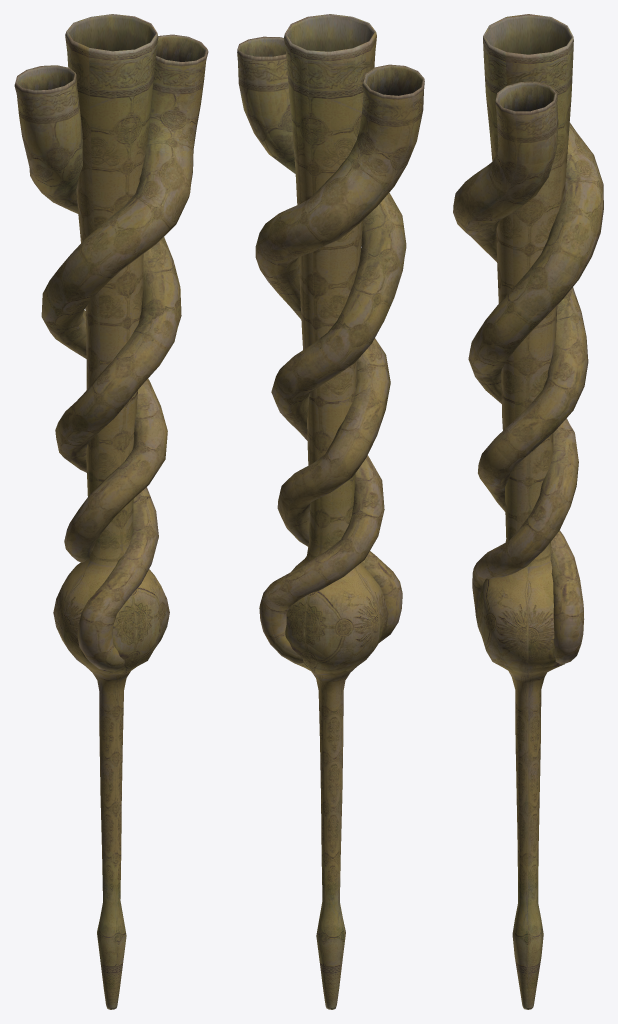
File: so_pd_longhorn.glb
3 renders of one model, left to right at view 1: azimuth 30°, elevation 25°; view 2: azimuth 150°, elevation 25°; view 3: azimuth 270°, elevation 25°, orthographic.
Visible parts, largest first — view 1: Longhorn; view 2: Longhorn; view 3: Longhorn.
Part boxes in pixels (box(x1,y1,x2,y2)): Longhorn: box(14, 14, 208, 1009); Longhorn: box(237, 14, 424, 1009); Longhorn: box(453, 14, 603, 1009).
Bounding box in the file's own units: 11.75 × 60.31 × 8.46.
Materials: 1 (1 with a texture image).
